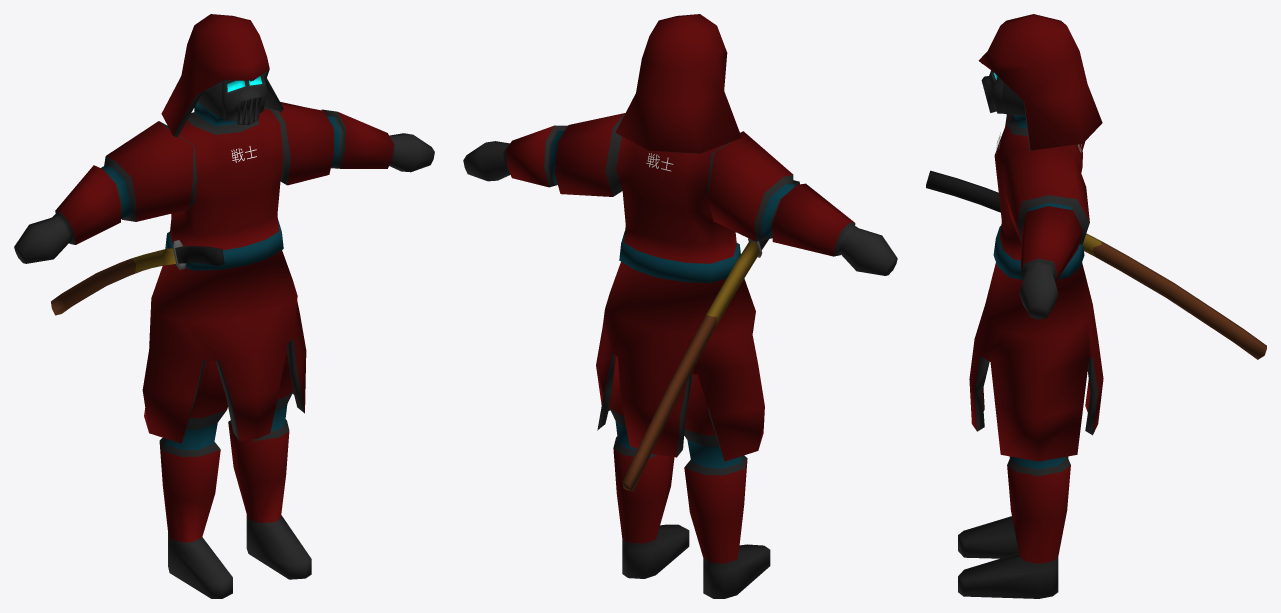
The model's file is samurai.gltf.
3 renders of one model, left to right at view 1: azimuth 30°, elevation 25°; view 2: azimuth 150°, elevation 25°; view 3: azimuth 270°, elevation 25°, orthographic. The views are drawn at different scales.
Parts seen in each view (by area): view 1: trooper_base, trooper_helmet, trooper_katana, trooper_mask; view 2: trooper_base, trooper_helmet, trooper_katana; view 3: trooper_base, trooper_helmet, trooper_katana, trooper_mask.
Part boxes in pixels (x1,y1,x2,y2): trooper_base: (14, 82, 434, 598); trooper_helmet: (161, 14, 283, 137); trooper_katana: (51, 240, 224, 315); trooper_mask: (222, 73, 267, 124); trooper_base: (463, 113, 897, 598); trooper_helmet: (615, 14, 741, 153); trooper_katana: (622, 180, 799, 491); trooper_base: (958, 82, 1103, 598); trooper_helmet: (978, 14, 1102, 150); trooper_katana: (926, 170, 1266, 359); trooper_mask: (981, 70, 1003, 113).
Bounding box in the file's own units: 9.08 × 11.41 × 6.35.
2 materials, 2 textured.
